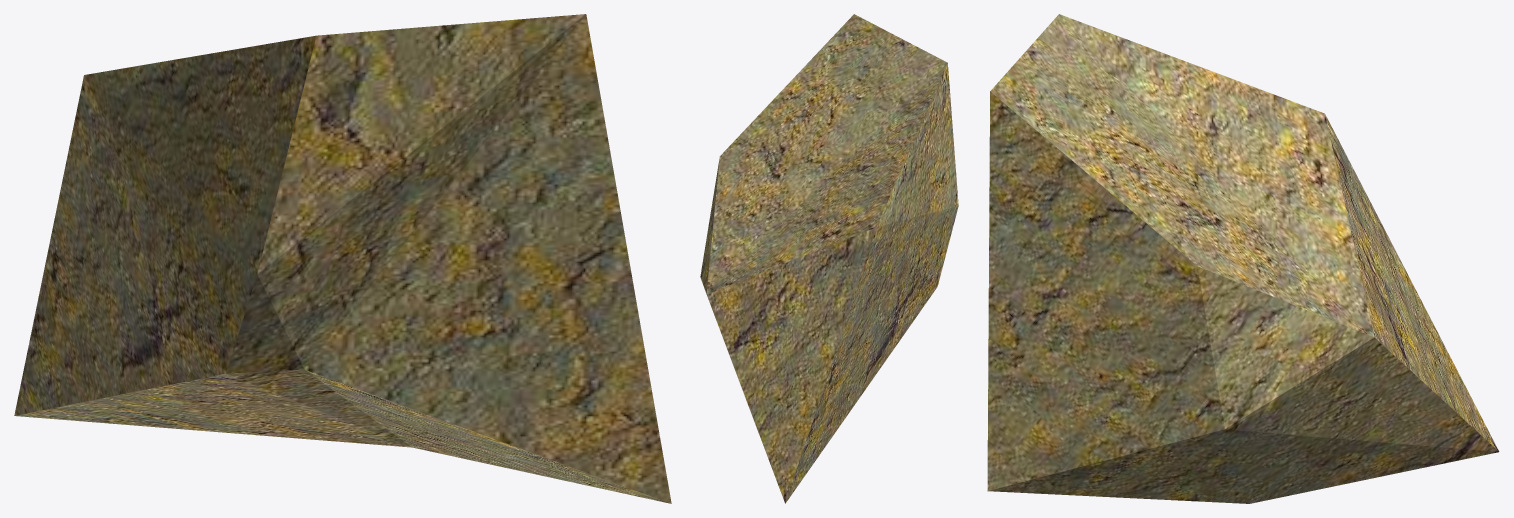
The model's file is rock8.fbx.
3 renders of one model, left to right at view 1: azimuth 30°, elevation 25°; view 2: azimuth 150°, elevation 25°; view 3: azimuth 270°, elevation 25°, orthographic. The views are drawn at different scales.
Visible parts, largest first — view 1: Rock8; view 2: Rock8; view 3: Rock8.
Part boxes in pixels (box(x1,y1,x2,y2)): Rock8: box(14, 14, 671, 503); Rock8: box(700, 14, 958, 503); Rock8: box(987, 14, 1499, 503).
Size of the model in its own units: 9.28 by 13.47 by 14.22.
